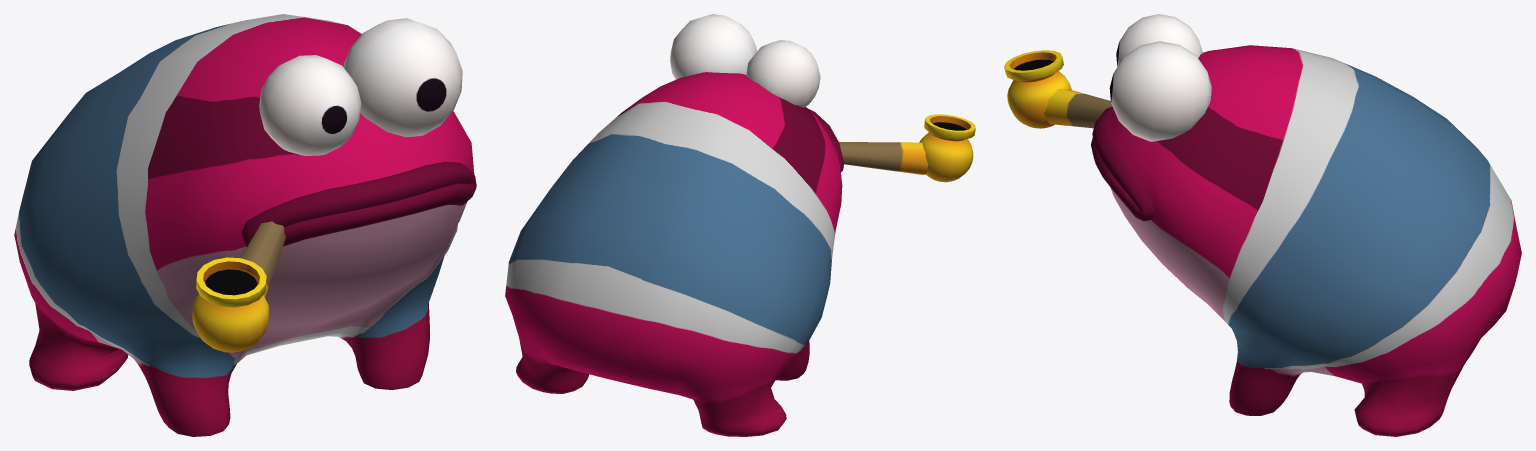
The model's file is frog_lvl3.fbx.
3 renders of one model, left to right at view 1: azimuth 30°, elevation 25°; view 2: azimuth 150°, elevation 25°; view 3: azimuth 270°, elevation 25°, orthographic. The views are drawn at different scales.
Visible parts, largest first — view 1: frog_lvl_3; view 2: frog_lvl_3; view 3: frog_lvl_3.
Part boxes in pixels (x1,y1,x2,y2): frog_lvl_3: (14,14,476,436); frog_lvl_3: (505,14,975,436); frog_lvl_3: (1004,14,1521,436).
Bounding box in the file's own units: 47.03 × 43.82 × 60.29.
